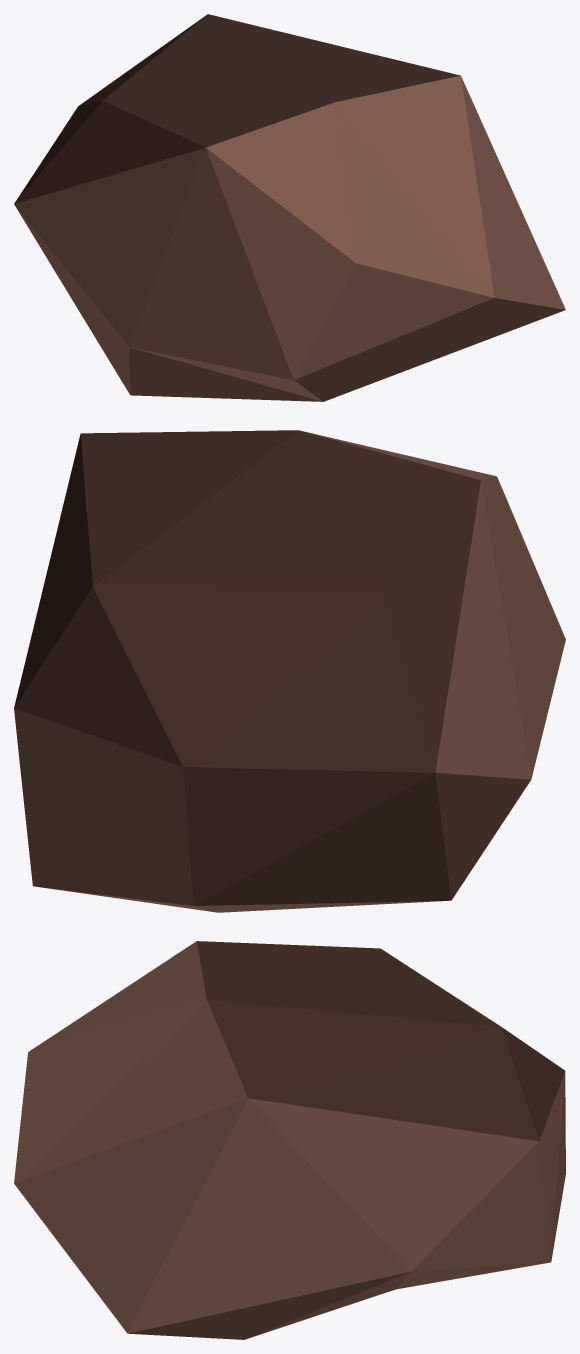
File: Brown_stone_006.fbx
The picture shows the model from 3 angles, top to bottom: view 1: azimuth 30°, elevation 25°; view 2: azimuth 150°, elevation 25°; view 3: azimuth 270°, elevation 25°; orthographic projection. The views are drawn at different scales.
Visible parts, largest first — view 1: Brown_stone_006; view 2: Brown_stone_006; view 3: Brown_stone_006.
Part boxes in pixels (x1=…): Brown_stone_006: x1=14, y1=14, x2=565, y2=401; Brown_stone_006: x1=14, y1=430, x2=565, y2=912; Brown_stone_006: x1=14, y1=941, x2=565, y2=1339.
Bounding box in the file's own units: 79.24 × 89.78 × 54.72.
